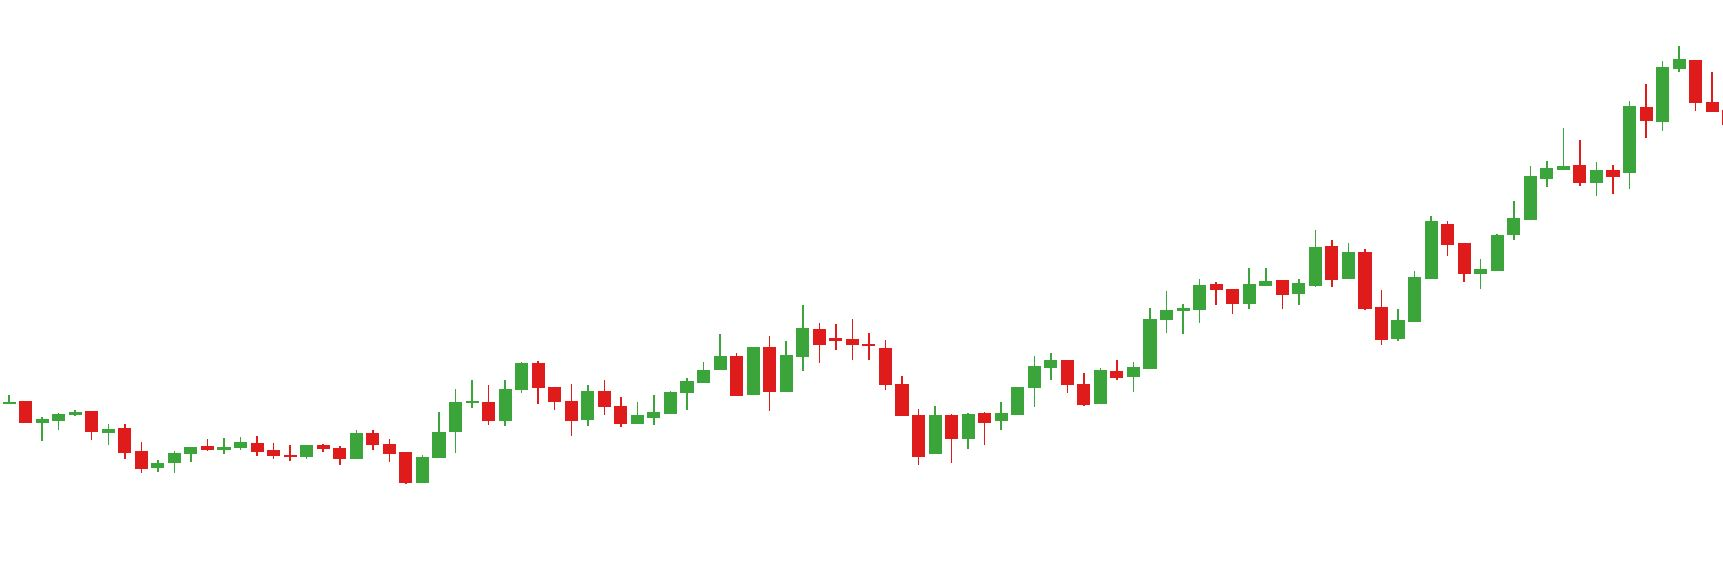buy: (1227, 256, 1424, 350)
